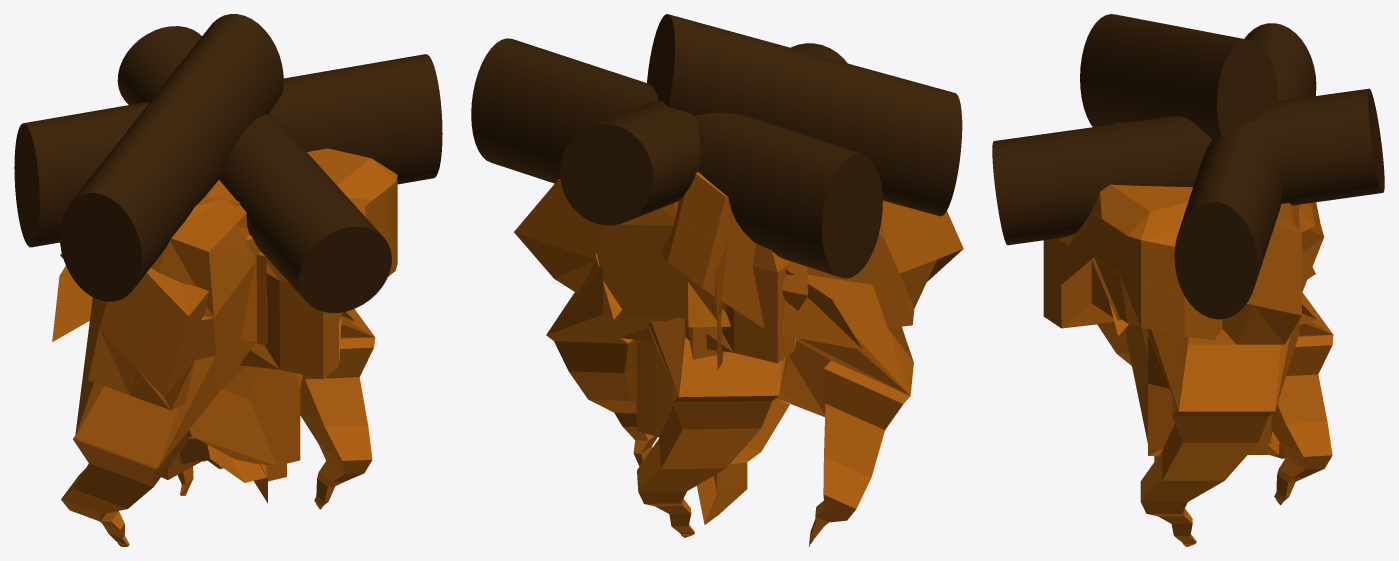
The model's file is campfire (1).fbx.
The picture shows the model from 3 angles, left to right: view 1: azimuth 30°, elevation 25°; view 2: azimuth 150°, elevation 25°; view 3: azimuth 270°, elevation 25°; orthographic projection. The views are drawn at different scales.
Visible parts, largest first — view 1: fire4, Cylinder_1, Cylinder, Cylinder_2, fire3, fire1, fire2; view 2: Cylinder, fire4, Cylinder_1, fire2, fire3, Cylinder_2, fire1; view 3: Cylinder_2, fire3, fire2, Cylinder_1, Cylinder, fire1, fire4.
Boxes of the visible parts, left/top/right/bottom form: fire4: left=52, top=180, right=255, bottom=546; Cylinder_1: left=59, top=14, right=283, bottom=301; Cylinder: left=14, top=54, right=442, bottom=247; Cylinder_2: left=117, top=26, right=391, bottom=312; fire3: left=60, top=148, right=397, bottom=495; fire1: left=161, top=366, right=302, bottom=503; fire2: left=185, top=197, right=375, bottom=509; Cylinder: left=471, top=38, right=882, bottom=278; fire4: left=662, top=172, right=963, bottom=546; Cylinder_1: left=647, top=14, right=962, bottom=216; fire2: left=514, top=179, right=796, bottom=466; fire3: left=596, top=253, right=807, bottom=537; Cylinder_2: left=560, top=43, right=847, bottom=225; fire1: left=636, top=242, right=829, bottom=524; Cylinder_2: left=992, top=88, right=1384, bottom=245; fire3: left=1043, top=184, right=1333, bottom=504; fire2: left=1109, top=203, right=1301, bottom=546; Cylinder_1: left=1080, top=14, right=1278, bottom=139; Cylinder: left=1174, top=23, right=1316, bottom=319; fire1: left=1126, top=224, right=1324, bottom=461; fire4: left=1097, top=123, right=1320, bottom=365.
Size of the model in its own units: 655 by 742 by 542.
